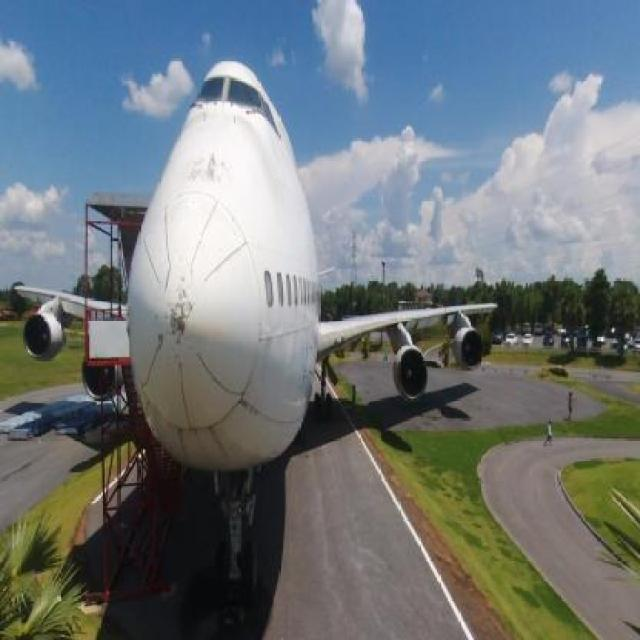Rust: (171, 304, 194, 347)
Scartch: (151, 272, 207, 371), (179, 148, 244, 201)
